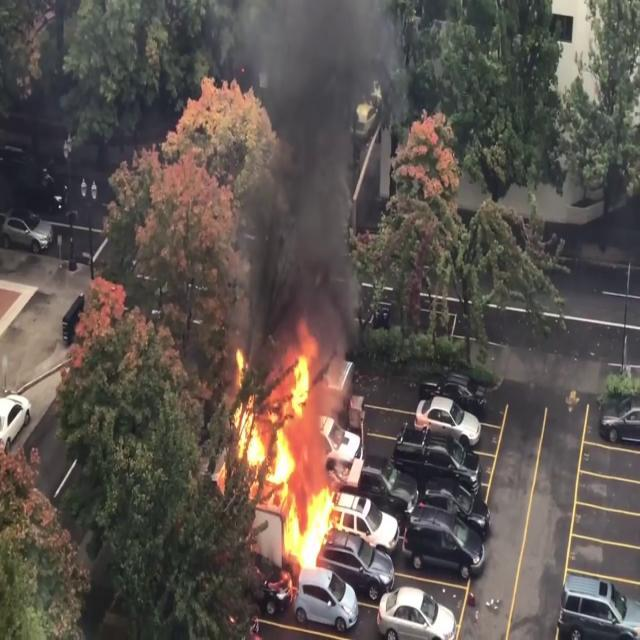Fire: (219, 327, 350, 578)
Smoke: (235, 0, 387, 340)
